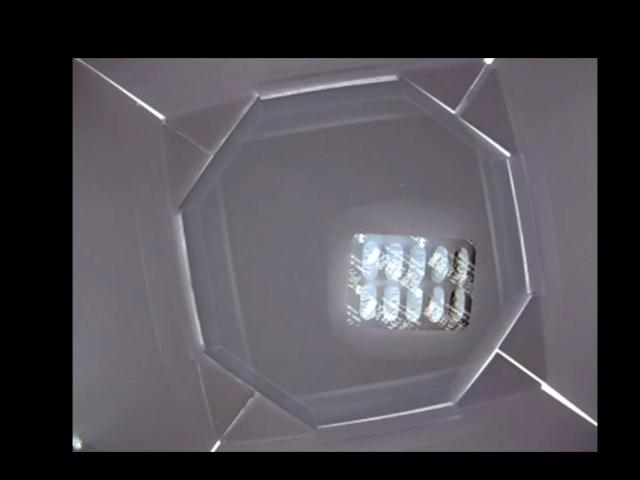Medicine: (343, 232, 477, 331)
